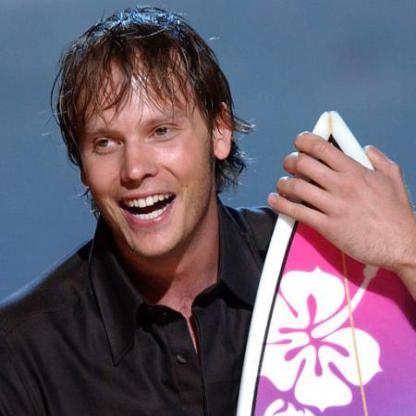face: (78, 30, 214, 263)
